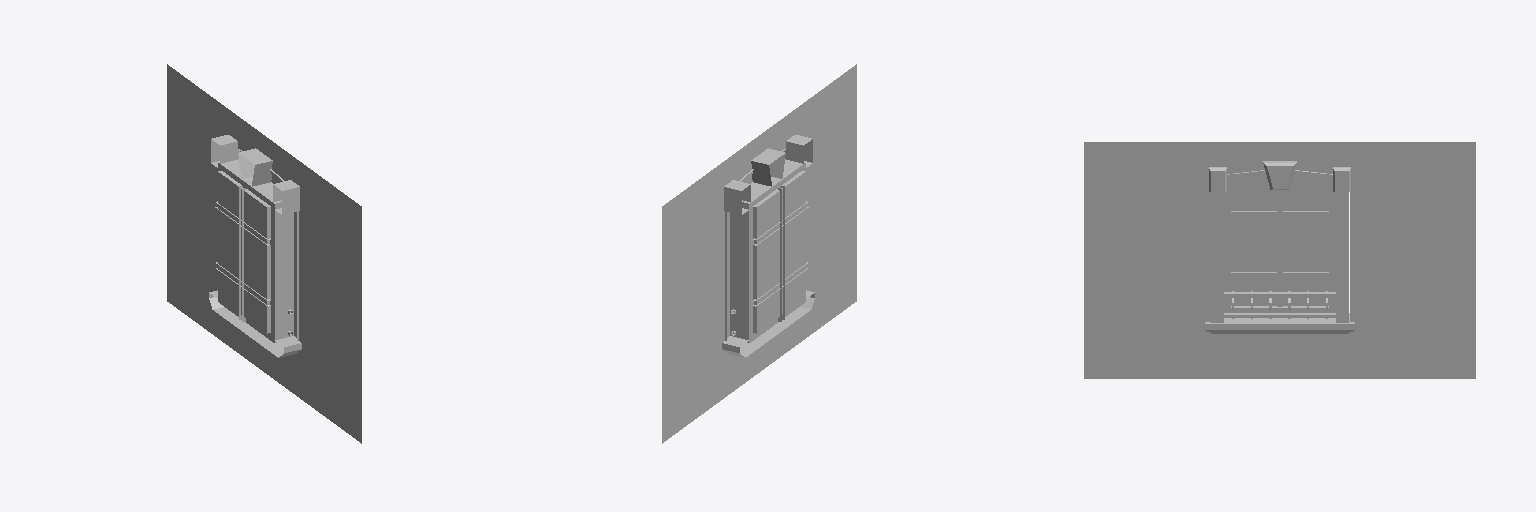
File: NY_wallWindow 3.obj
The picture shows the model from 3 angles: view 1: azimuth 30°, elevation 25°; view 2: azimuth 150°, elevation 25°; view 3: azimuth 270°, elevation 25°; orthographic projection.
Visible parts, largest first — view 1: A_EXPO.obj.002; view 2: A_EXPO.obj.002; view 3: A_EXPO.obj.002.
Part boxes in pixels (bbox=[...]): A_EXPO.obj.002: bbox=[167, 64, 361, 443]; A_EXPO.obj.002: bbox=[662, 64, 856, 443]; A_EXPO.obj.002: bbox=[1084, 142, 1475, 378].
Bounding box in the file's own units: 0.268 × 2.01 × 3.